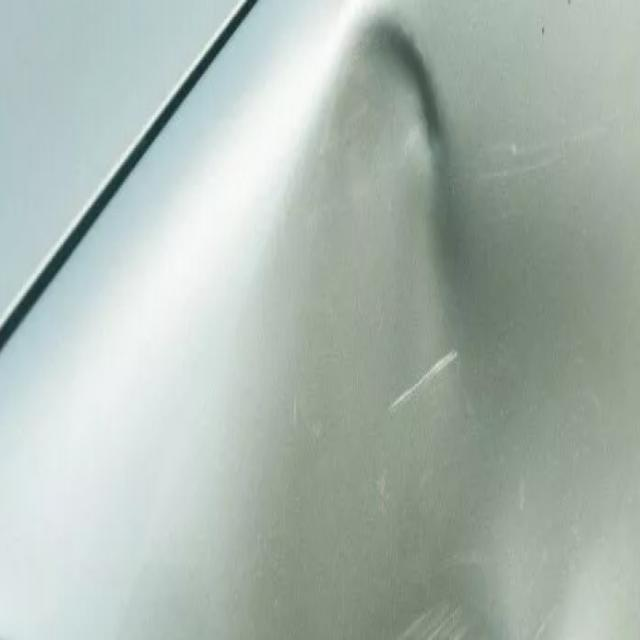dents: (312, 0, 478, 330)
